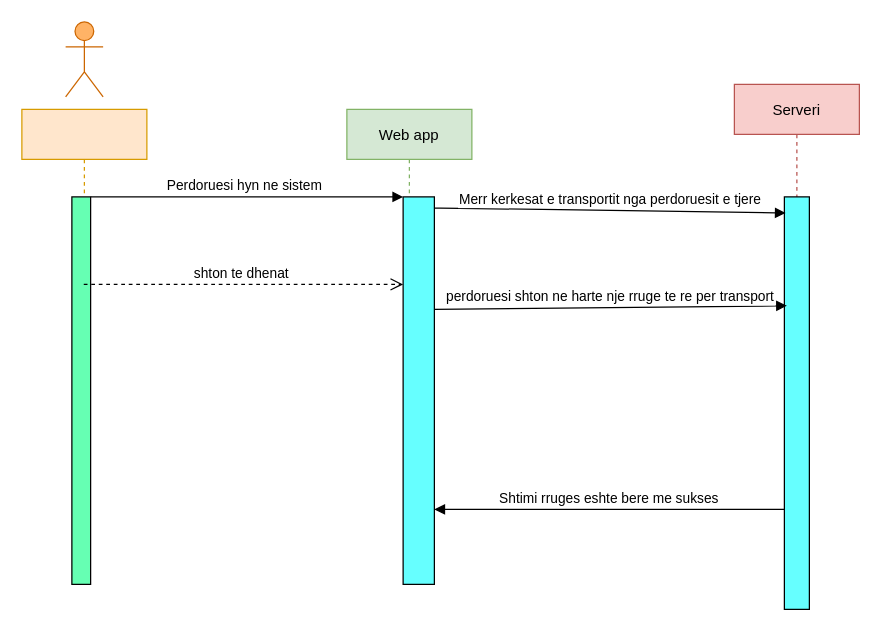
This 881x631 diagram has some shape labels left out. Here are the shapes that lost their labels. From the top down, the box of each, then its label:
(64, 21, 103, 97): Actor
(21, 108, 147, 584): Perdoruesi
